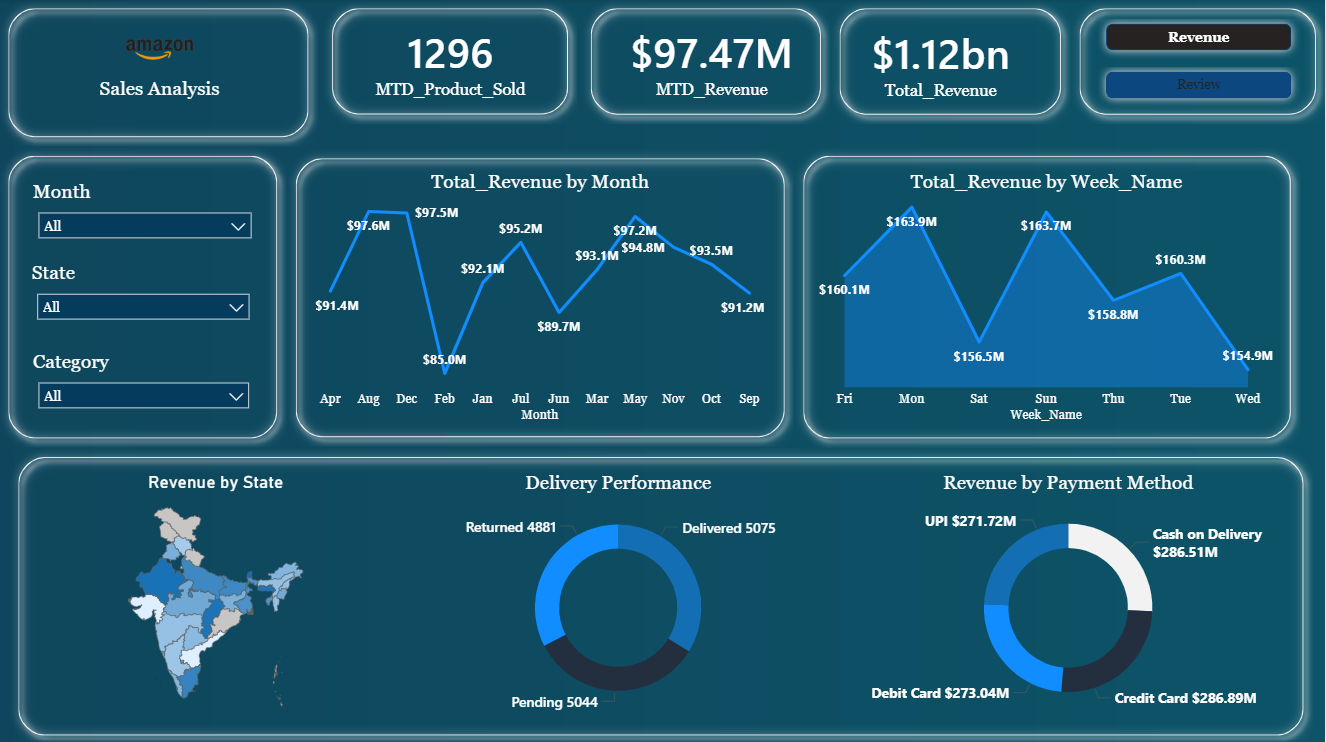

The dashboard page shown, as its layout file describes it:
{"tool":"powerbi","page":{"name":"Page 1","canvas":[1280,720],"ordinal":0},"visuals":[{"type":"shape","box":[767.1,142.7,488.5,290.9],"z":0},{"type":"shape","box":[9.6,433.6,1258.3,286.8],"z":1000},{"type":"shapeMap","title":"Revenue by State","fields":{"Category":["amazon_sales_2025_INR.State"],"Value":["Sum(amazon_sales_2025_INR.Total_Sales_INR)"]},"box":[27.7,456,363.1,242.5],"z":2000},{"type":"donutChart","title":"Delivery Performance","fields":{"Category":["amazon_sales_2025_INR.Delivery_Status"],"Y":["CountNonNull(amazon_sales_2025_INR.Delivery_Status)"]},"box":[410.2,456,375.2,242.5],"z":3000},{"type":"pieChart","title":"Revenue by Payment Method","fields":{"Category":["amazon_sales_2025_INR.Payment_Method"],"Y":["Bookmark Table.Total_Revenue"]},"box":[827.4,455.6,408.9,242.9],"z":4000},{"type":"shape","box":[0,142.4,277.5,290.8],"z":5000},{"type":"areaChart","fields":{"Y":["Bookmark Table.Total_Revenue"],"Category":["Date Table.Week_Name"]},"box":[785.2,164.8,451.2,247.3],"z":6000},{"type":"shape","box":[277.5,144.8,489.8,287.1],"z":7000},{"type":"lineChart","fields":{"Y":["Bookmark Table.Total_Revenue"],"Category":["Date Table.Month"]},"box":[300.8,164.8,443.9,247.3],"z":8000},{"type":"slicer","title":"Month","fields":{"Values":["Date Table.Month"]},"box":[27.7,174.9,225.6,62.7],"z":9000},{"type":"slicer","title":"State","fields":{"Values":["amazon_sales_2025_INR.State"]},"box":[26.1,253.9,225,75.5],"z":10000},{"type":"slicer","title":"Category","fields":{"Values":["amazon_sales_2025_INR.Product_Category"]},"box":[27.4,338.9,223.7,72.7],"z":11000},{"type":"shape","box":[802.3,0,231.6,120.6],"z":15000},{"type":"shape","box":[1033.9,0,246.1,120.6],"z":16000},{"type":"shape","box":[562.2,0,240.1,120.6],"z":17000},{"type":"shape","box":[312.8,0,245.8,120.4],"z":18000},{"type":"card","fields":{"Values":["Bookmark Table.Total_Revenue"]},"box":[811.9,16.9,194.2,88.1],"z":19000},{"type":"card","fields":{"Values":["amazon.MTD_Revenue"]},"box":[590.9,16.1,193.6,88.1],"z":20000},{"type":"card","fields":{"Values":["Bookmark Table.MTD_Product_Sold"]},"box":[338.9,16.1,193.6,88.1],"z":21000},{"type":"shape","box":[0,0,307.6,142.4],"z":27000},{"type":"image","box":[20.5,19.3,269,51.9],"z":31000},{"type":"bookmarkNavigator","box":[1060.5,15.7,195.4,88.1],"z":35000},{"type":"textbox","box":[20.5,71.2,269,49.5],"z":36000}]}

Visuals, with their boxes in screenshot pixels (x1, y1, x2, y2), scaled from the page's 1280x720 canvas onto the 1326x742 screenshot:
shape: 795, 147, 1301, 447
shape: 10, 447, 1313, 741
"Revenue by State" shapeMap: 29, 470, 405, 720
"Delivery Performance" donutChart: 425, 470, 814, 720
"Revenue by Payment Method" pieChart: 857, 470, 1281, 720
shape: 0, 147, 287, 446
areaChart - Bookmark Table.Total_Revenue x Date Table.Week_Name: 813, 170, 1281, 425
shape: 287, 149, 795, 445
lineChart - Bookmark Table.Total_Revenue x Date Table.Month: 312, 170, 771, 425
"Month" slicer: 29, 180, 262, 245
"State" slicer: 27, 262, 260, 339
"Category" slicer: 28, 349, 260, 424
shape: 831, 0, 1071, 124
shape: 1071, 0, 1325, 124
shape: 582, 0, 831, 124
shape: 324, 0, 579, 124
card - Bookmark Table.Total_Revenue: 841, 17, 1042, 108
card - amazon.MTD_Revenue: 612, 17, 813, 107
card - Bookmark Table.MTD_Product_Sold: 351, 17, 552, 107
shape: 0, 0, 319, 147
image: 21, 20, 300, 73
bookmarkNavigator: 1099, 16, 1301, 107
textbox: 21, 73, 300, 124
